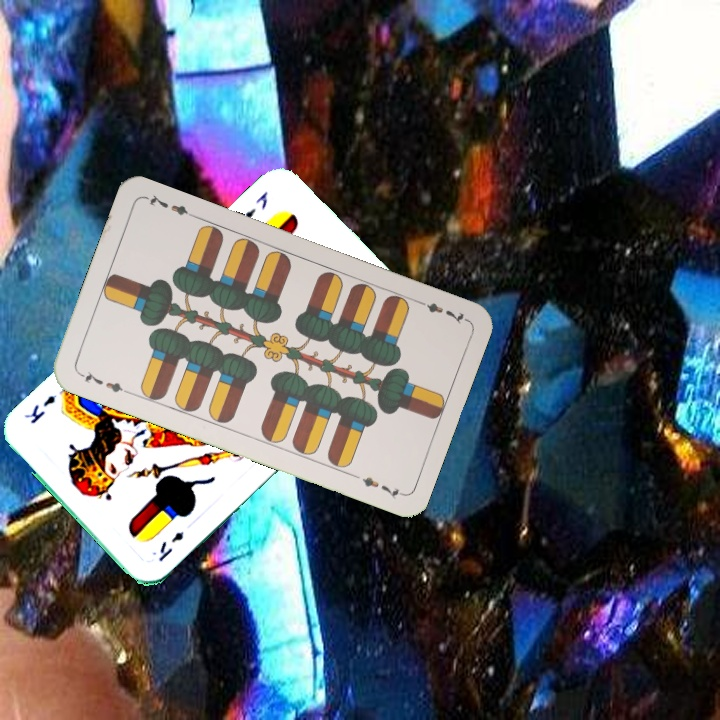E7: (412, 297, 469, 327), (75, 368, 132, 397)
EK: (154, 527, 187, 564), (241, 188, 271, 221)
